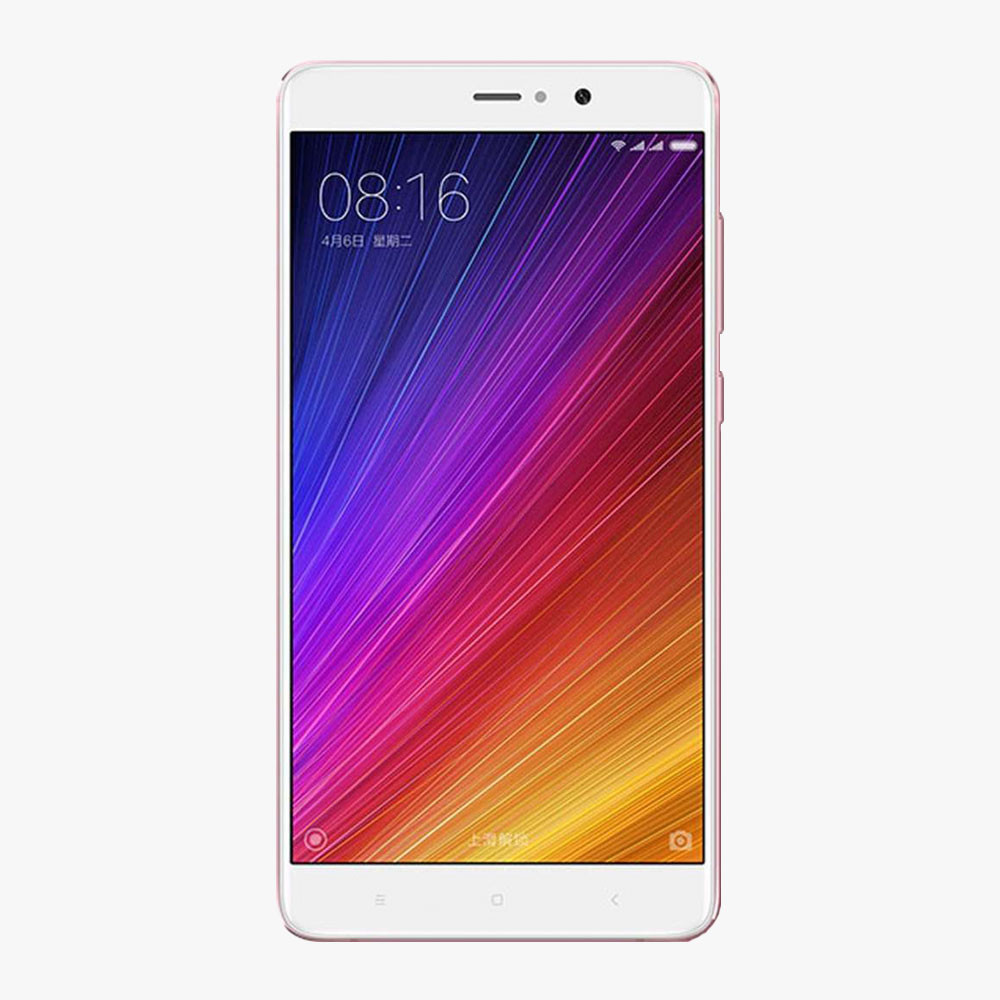smartphone: (275, 61, 724, 941)
